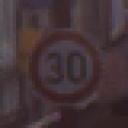speed_limit_30: (26, 27, 106, 112)
